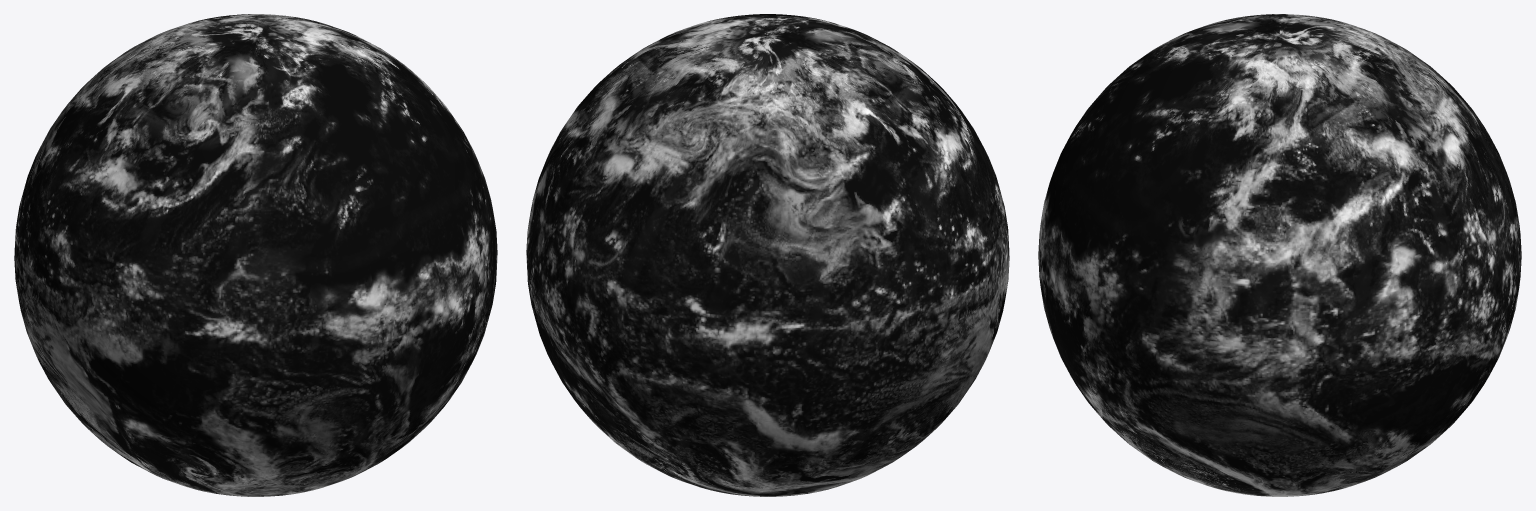
The model's file is earth2.obj.
The picture shows the model from 3 angles, left to right: view 1: azimuth 30°, elevation 25°; view 2: azimuth 150°, elevation 25°; view 3: azimuth 270°, elevation 25°; orthographic projection.
Visible parts, largest first — view 1: Sphere002; view 2: Sphere002; view 3: Sphere002.
Boxes of the visible parts, x1,y1,x2,y2 form: Sphere002: [14, 14, 497, 496]; Sphere002: [526, 14, 1009, 496]; Sphere002: [1038, 14, 1521, 496].
Size of the model in its own units: 702 by 702 by 702.
Materials: 2 (2 with a texture image).
